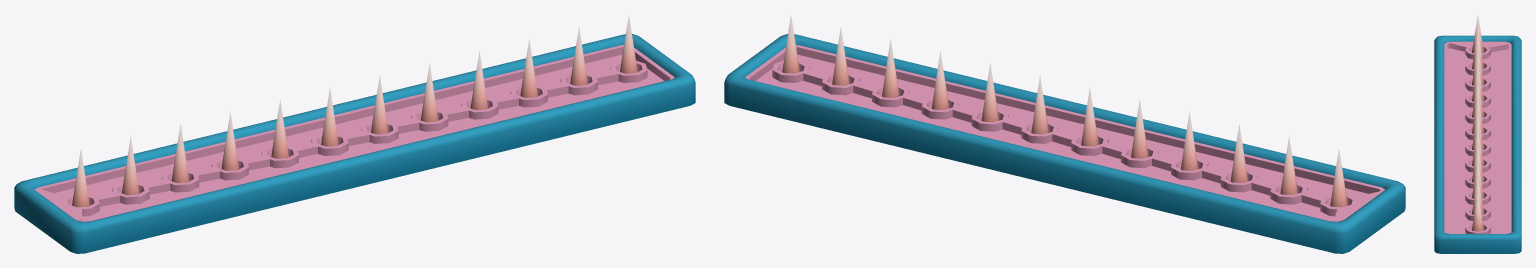
The model's file is Obstacle-17.fbx.
The picture shows the model from 3 angles, left to right: view 1: azimuth 30°, elevation 25°; view 2: azimuth 150°, elevation 25°; view 3: azimuth 270°, elevation 25°; orthographic projection. The views are drawn at different scales.
Visible parts, largest first — view 1: Obs-17, Obs-17-H; view 2: Obs-17, Obs-17-H; view 3: Obs-17, Obs-17-H.
Part boxes in pixels (bbox=[...]): Obs-17: bbox=[14, 34, 695, 253]; Obs-17-H: bbox=[72, 15, 637, 207]; Obs-17: bbox=[724, 34, 1405, 253]; Obs-17-H: bbox=[782, 15, 1347, 207]; Obs-17: bbox=[1434, 35, 1521, 253]; Obs-17-H: bbox=[1472, 15, 1483, 231].
Bounding box in the file's own units: 8.64 × 0.9896 × 1.58.
